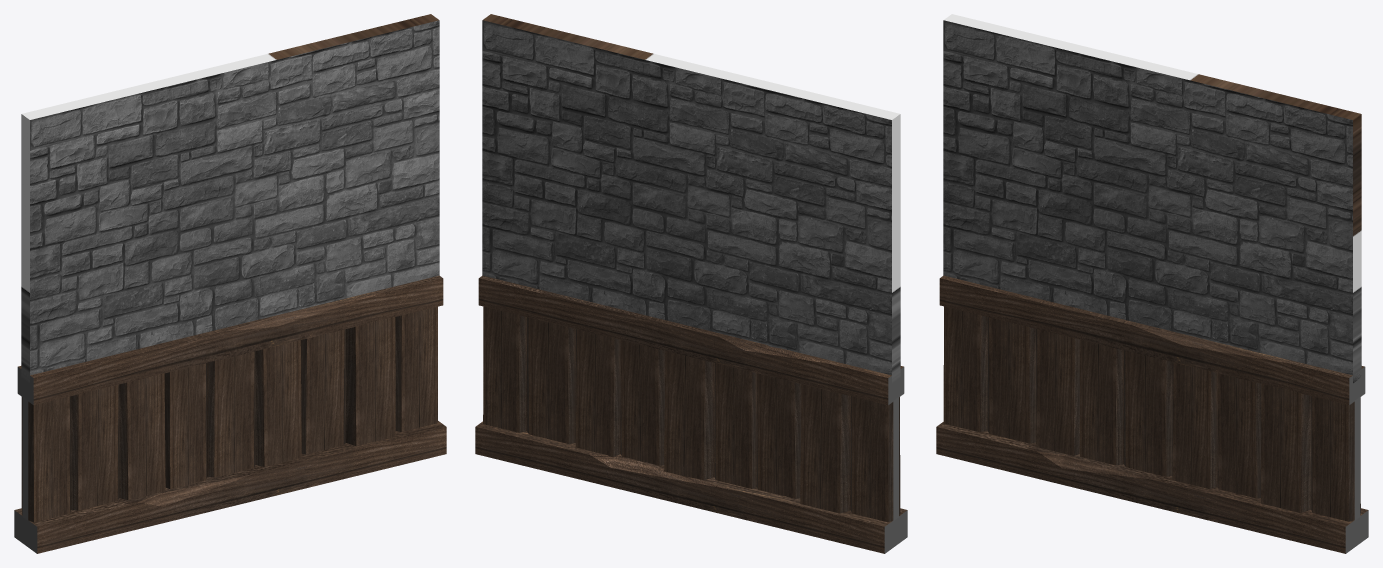
File: Class_Wall.fbx
3 views of the same model, side by side, from view 1: azimuth 30°, elevation 25°; view 2: azimuth 150°, elevation 25°; view 3: azimuth 330°, elevation 25° (orthographic).
Visible parts, largest first — view 1: SM_Bld_House_Wall_02; view 2: SM_Bld_House_Wall_02; view 3: SM_Bld_House_Wall_02.
Part boxes in pixels (<box>): SM_Bld_House_Wall_02: <box>14,14,446,553</box>; SM_Bld_House_Wall_02: <box>475,14,907,553</box>; SM_Bld_House_Wall_02: <box>936,14,1368,553</box>.
Size of the model in its own units: 250 by 250 by 24.2.
